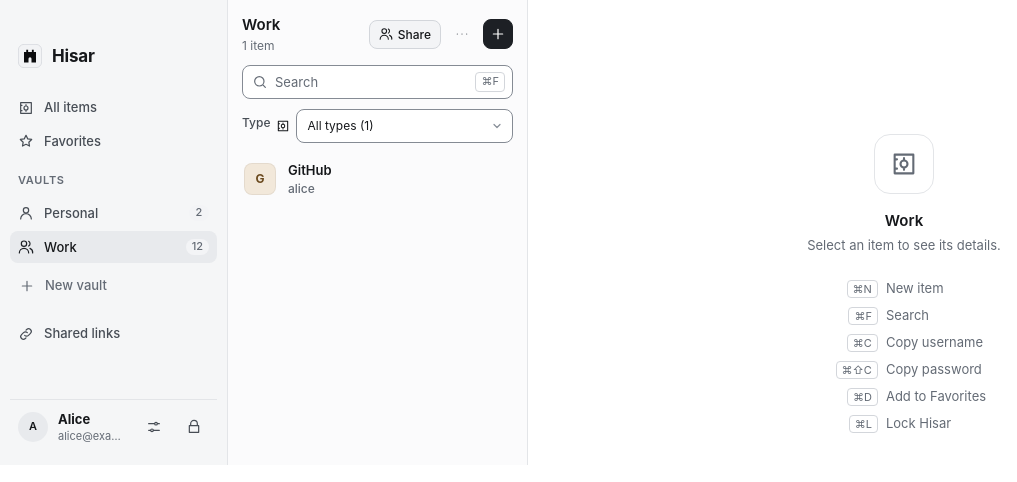
Scenario: vault menu › offers rename, delete and leave for an owner's shared vault
Click the button with test id "vault-actions" at [462, 34], box [447,19,477,49]
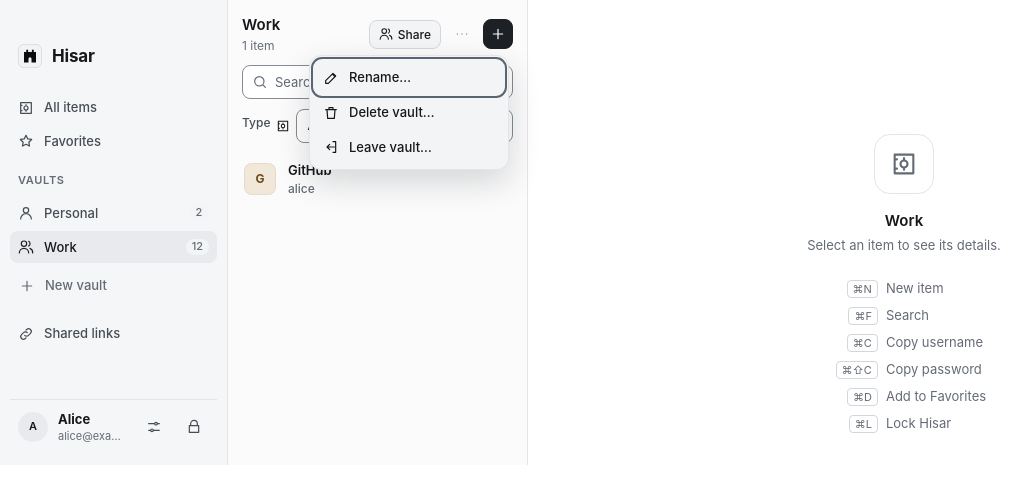
Result: the menu item with test id "vault-menu-rename" is shown at [314,60,504,95]
Result: the menu item with test id "vault-menu-delete" is shown at [314,95,504,130]
Result: the menu item with test id "vault-menu-leave" is shown at [314,130,504,165]
